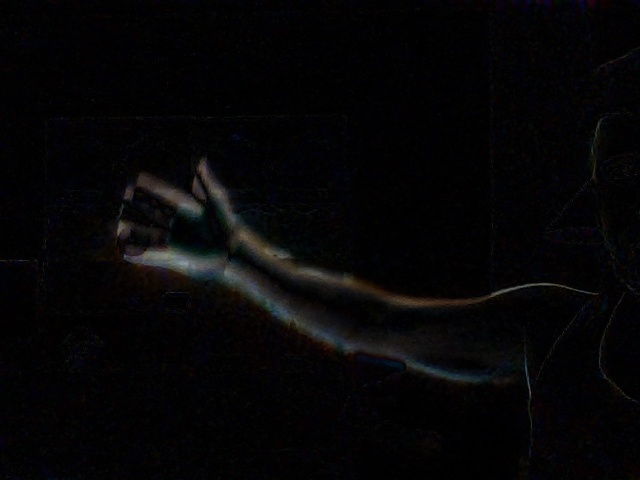hand_pa: (118, 159, 236, 285)
